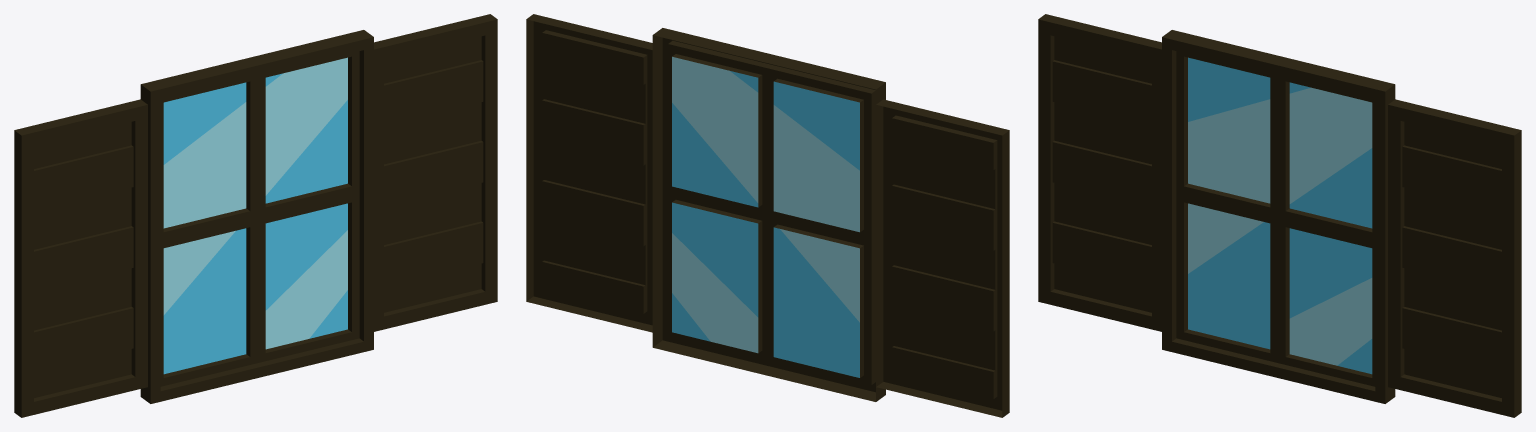
The model's file is Prop_BuildingWindow_09.fbx.
3 views of the same model, side by side, from view 1: azimuth 30°, elevation 25°; view 2: azimuth 150°, elevation 25°; view 3: azimuth 330°, elevation 25° (orthographic).
Parts seen in each view (by area): view 1: Prop_BuildingWindow_09; view 2: Prop_BuildingWindow_09; view 3: Prop_BuildingWindow_09.
Part boxes in pixels (bbox=[...]): Prop_BuildingWindow_09: bbox=[14, 14, 497, 417]; Prop_BuildingWindow_09: bbox=[526, 14, 1009, 417]; Prop_BuildingWindow_09: bbox=[1038, 14, 1521, 417].
Bounding box in the file's own units: 232 × 145 × 8.49.
